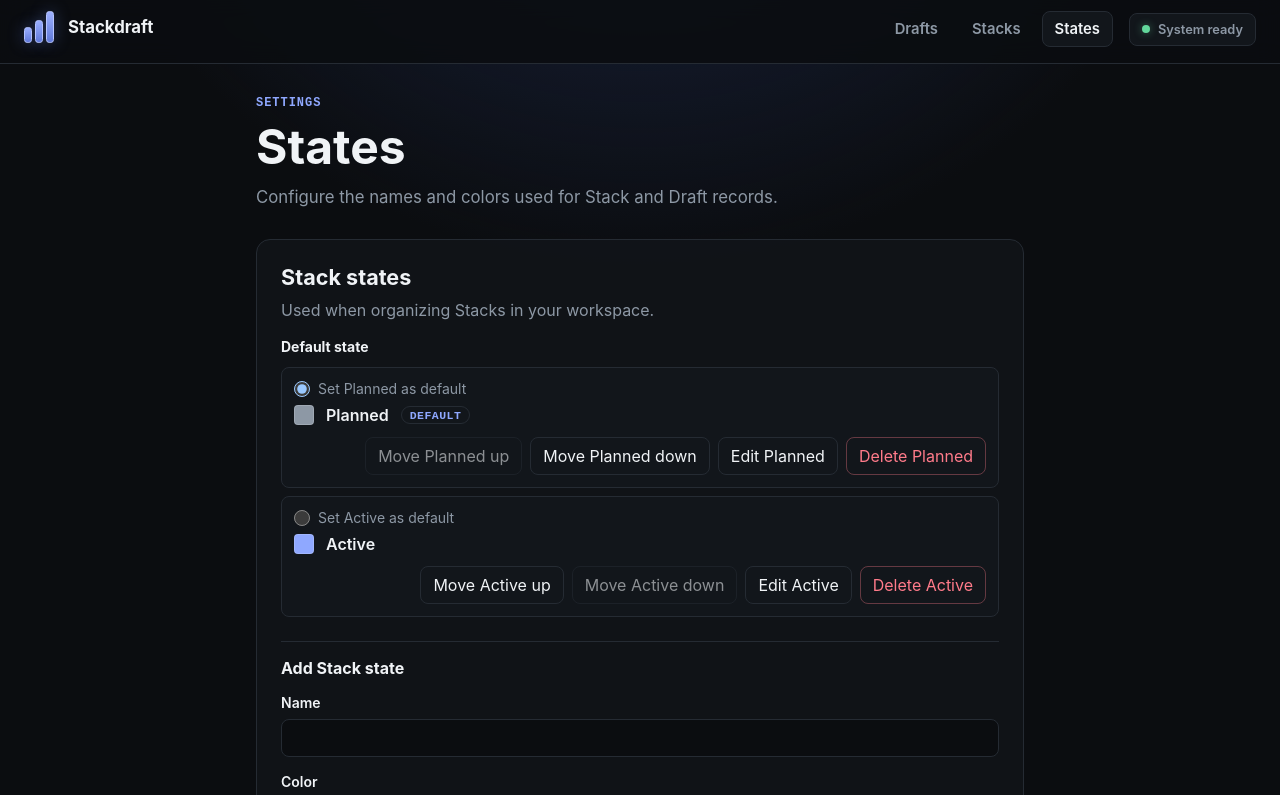
Test: state settings screen › creates a state and appends the server response
Check: the text "Planned" is shown, box [326,405,389,425]
Type "Review" into the field labelled "Name".
click(640, 738); type("Review")  # box [281,719,999,757]
(page scrolled)
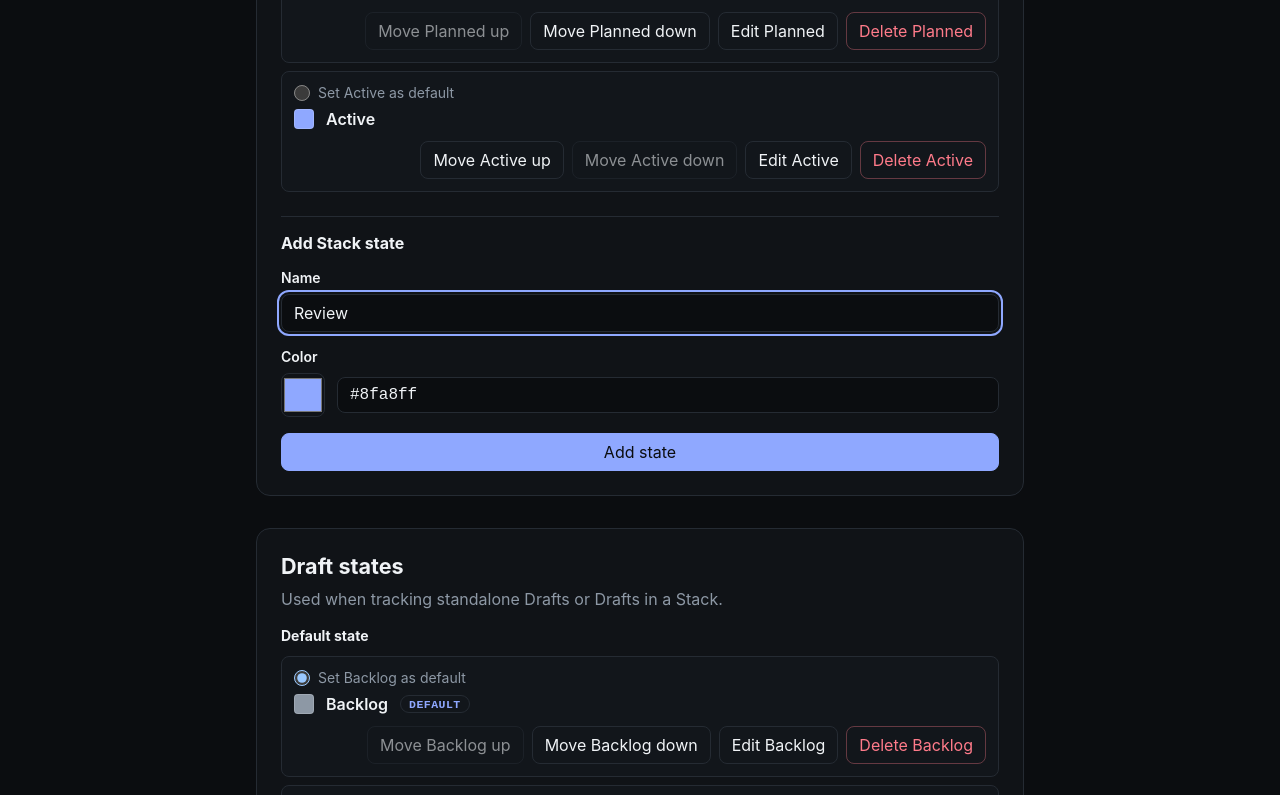
Replace the text in the field labelled "Color" with "#aabbcc" at {"x": 668, "y": 395}, box [337,377,999,413]
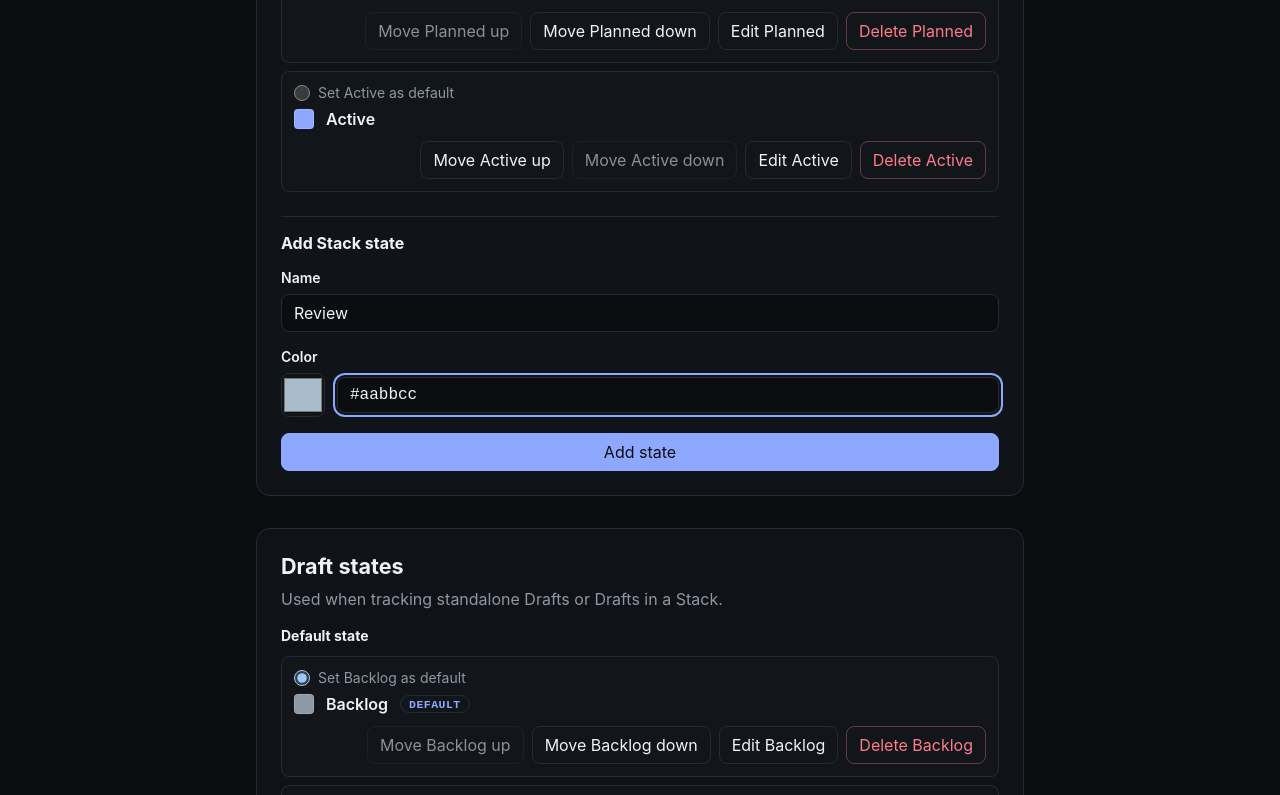
Click the button "Add state".
click(640, 452)  # box [281,433,999,471]
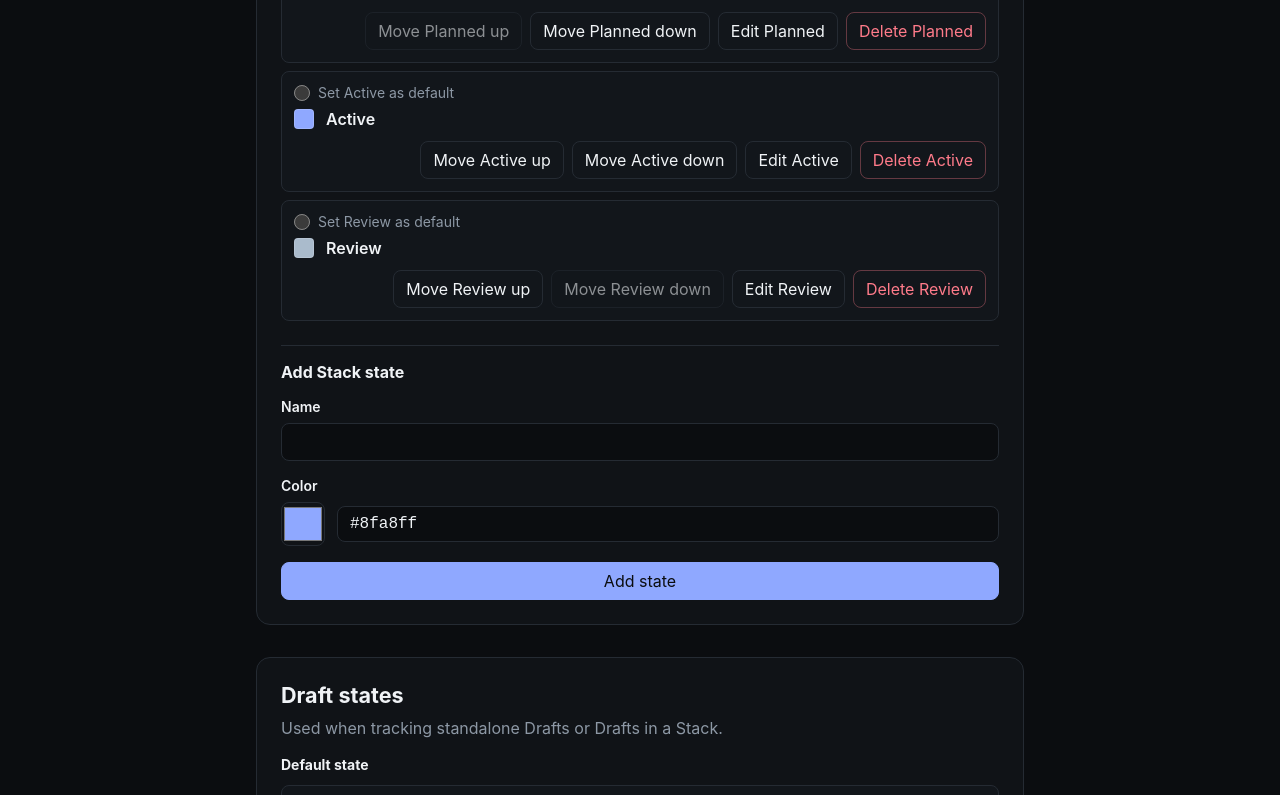
Check: the text "Review" is shown, box [326,238,382,258]
